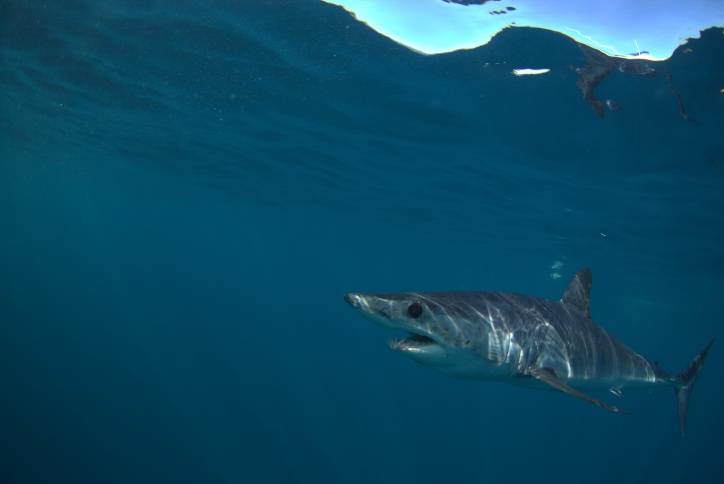Mako: (328, 246, 723, 448)
